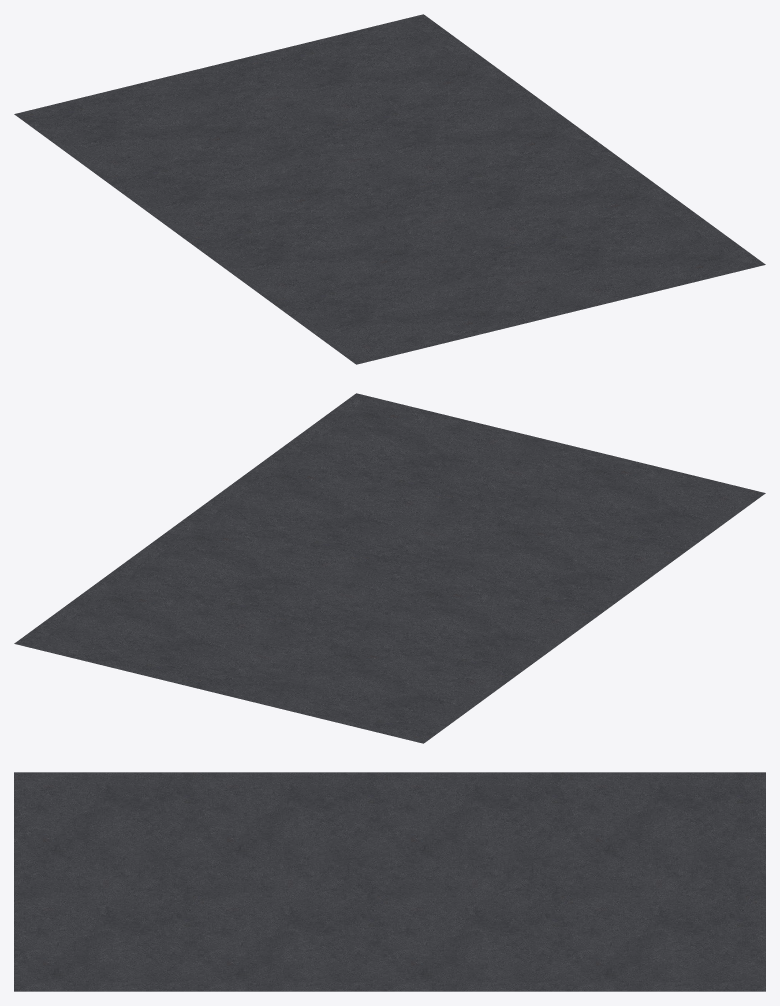
The model's file is main_street.glb.
3 renders of one model, top to bottom at view 1: azimuth 30°, elevation 25°; view 2: azimuth 150°, elevation 25°; view 3: azimuth 270°, elevation 25°, orthographic. The views are drawn at different scales.
Parts seen in each view (by area): view 1: road.073; view 2: road.073; view 3: road.073.
Part boxes in pixels (<box>): road.073: <box>14,14,765,364</box>; road.073: <box>14,393,765,743</box>; road.073: <box>14,772,765,991</box>.
Bounding box in the file's own units: 7.6 × 0 × 11.
Materials: 1 (1 with a texture image).
